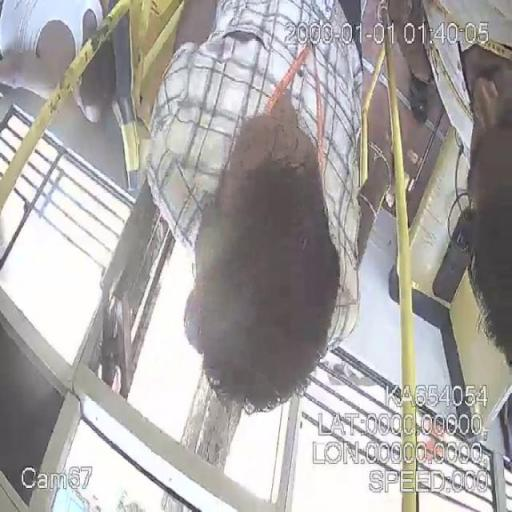persona: (142, 1, 366, 417), (384, 2, 512, 362), (0, 1, 128, 124)
